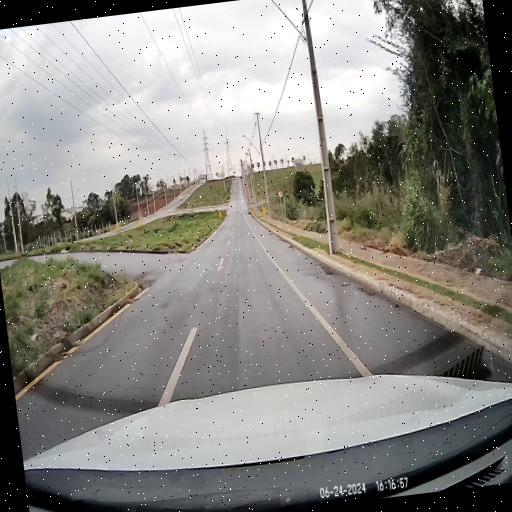R-19: (278, 190, 284, 199)
